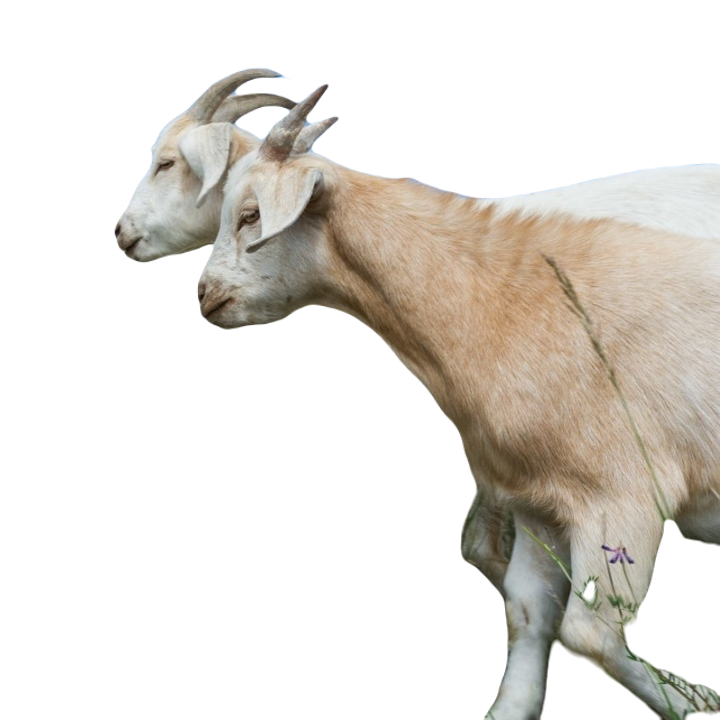Goat: (196, 84, 719, 719)
